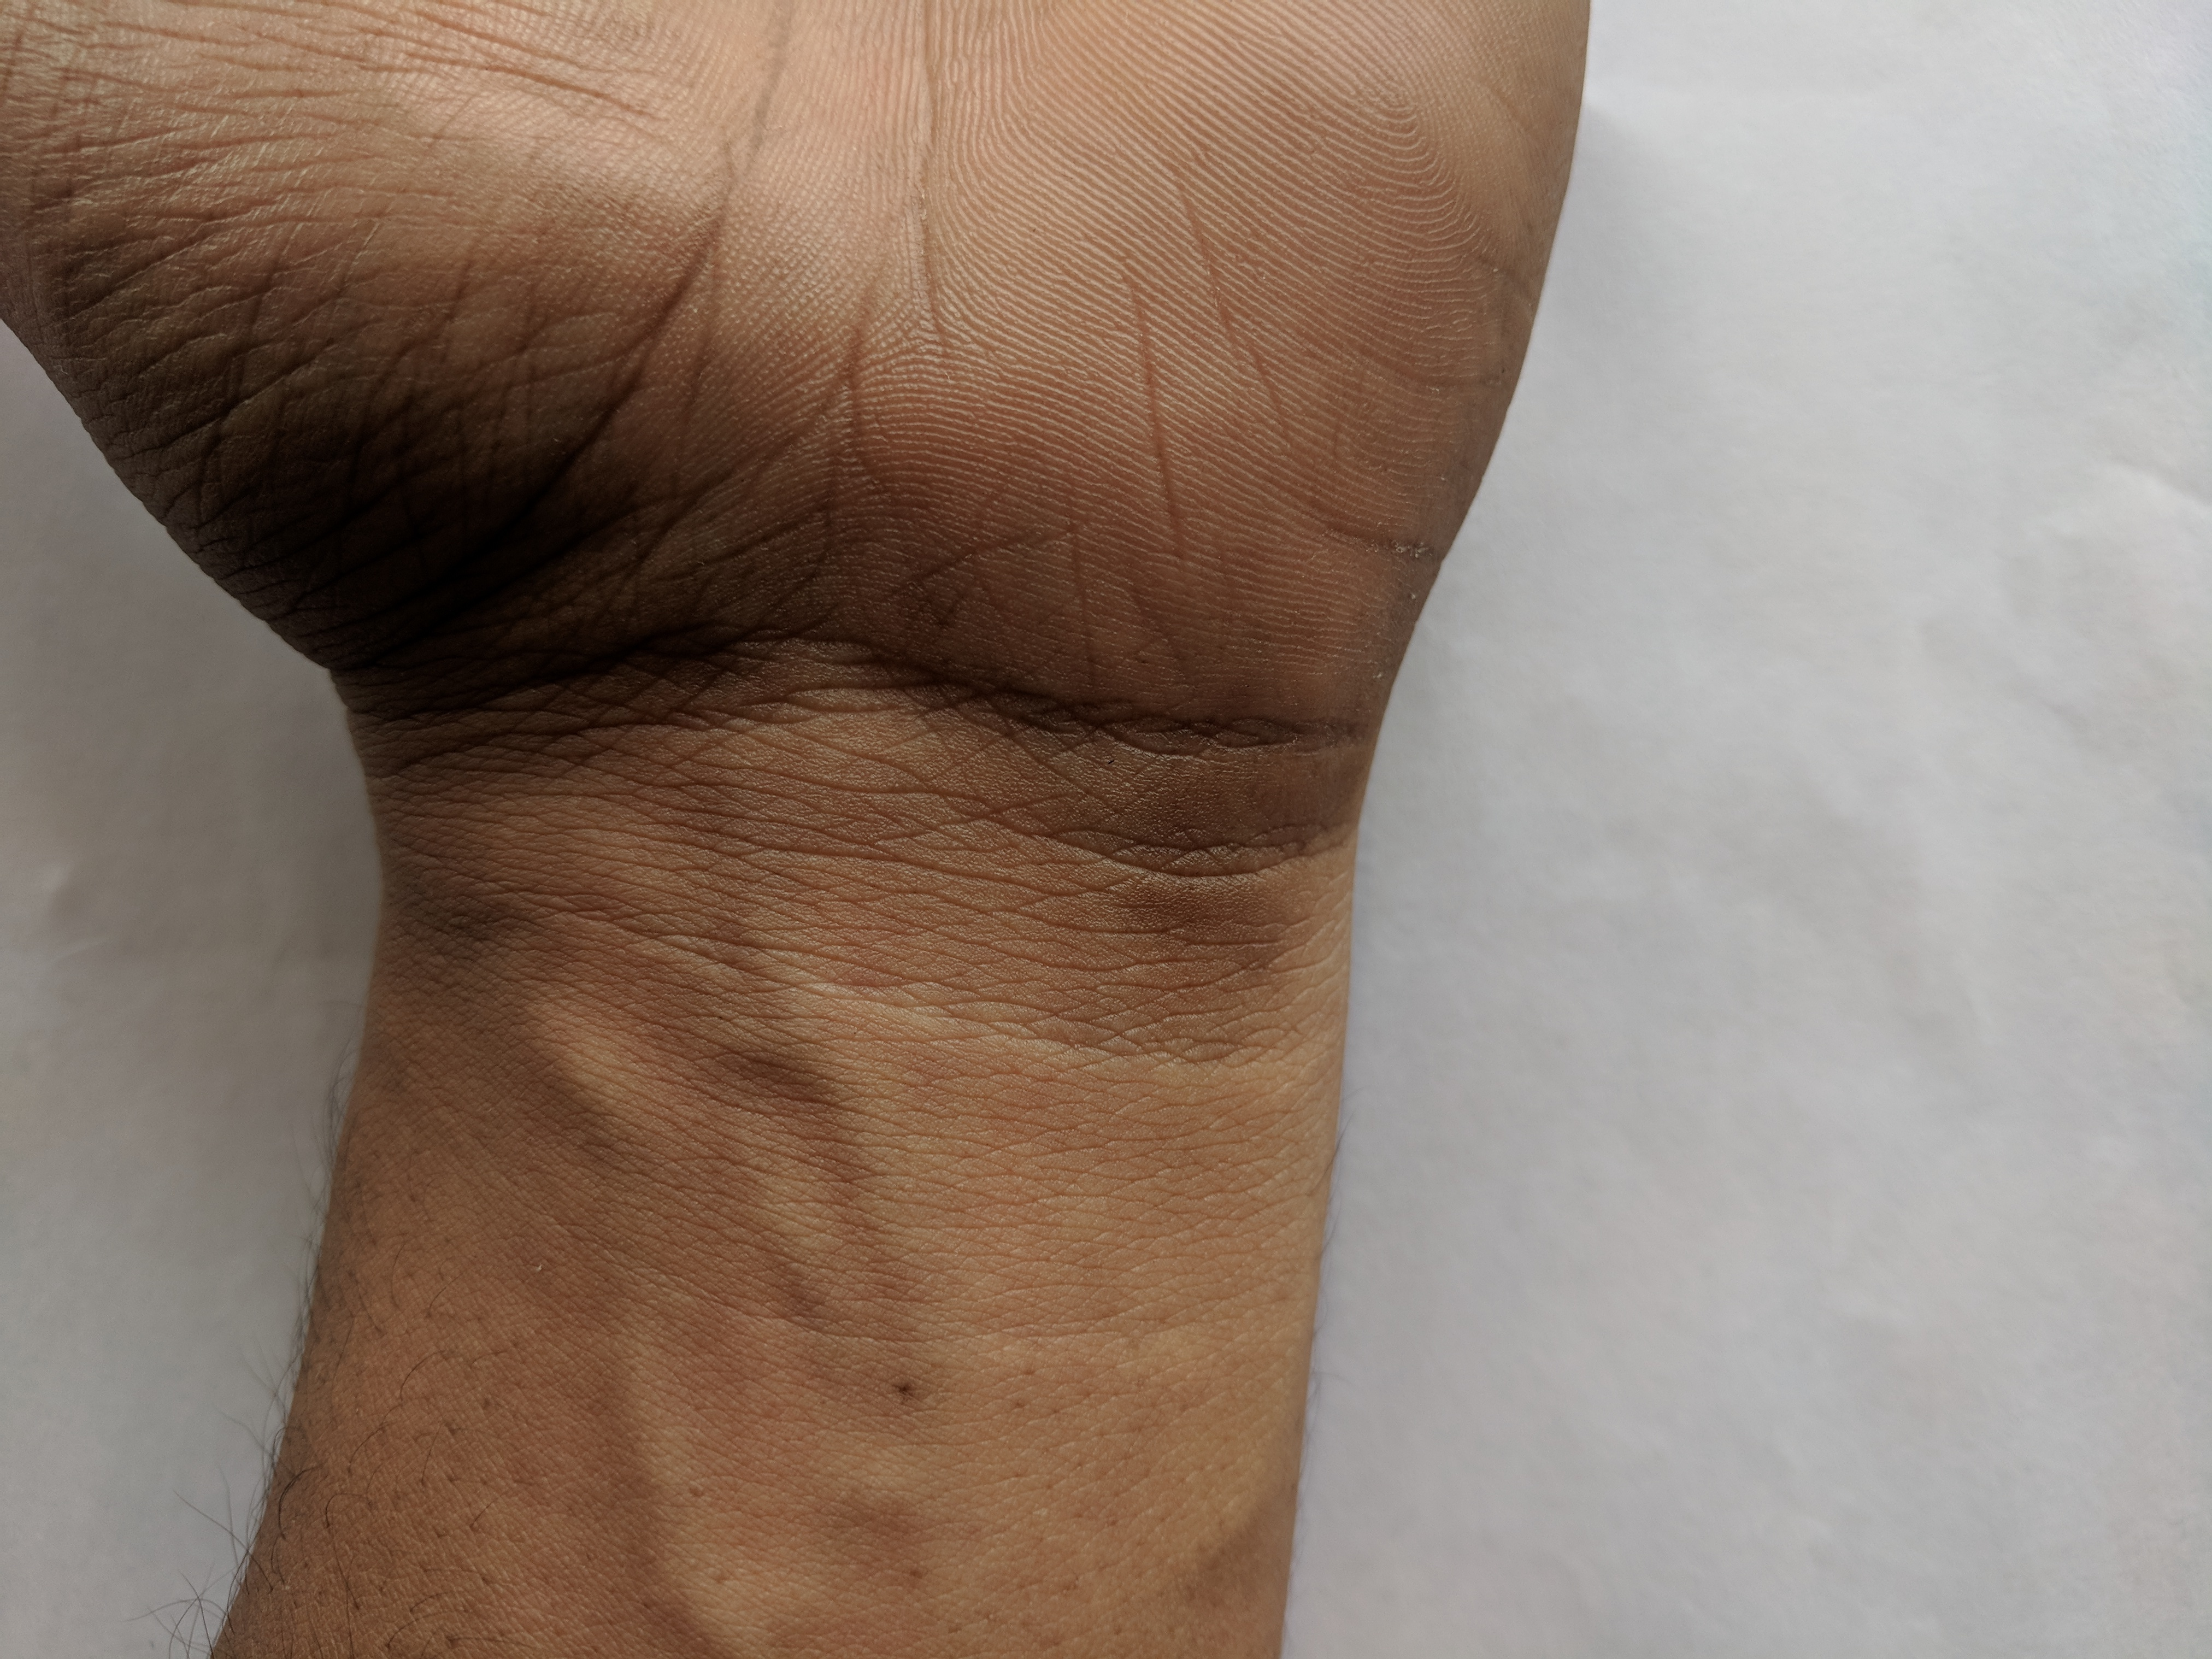lefthandwrist: (253, 605, 1423, 1087)
